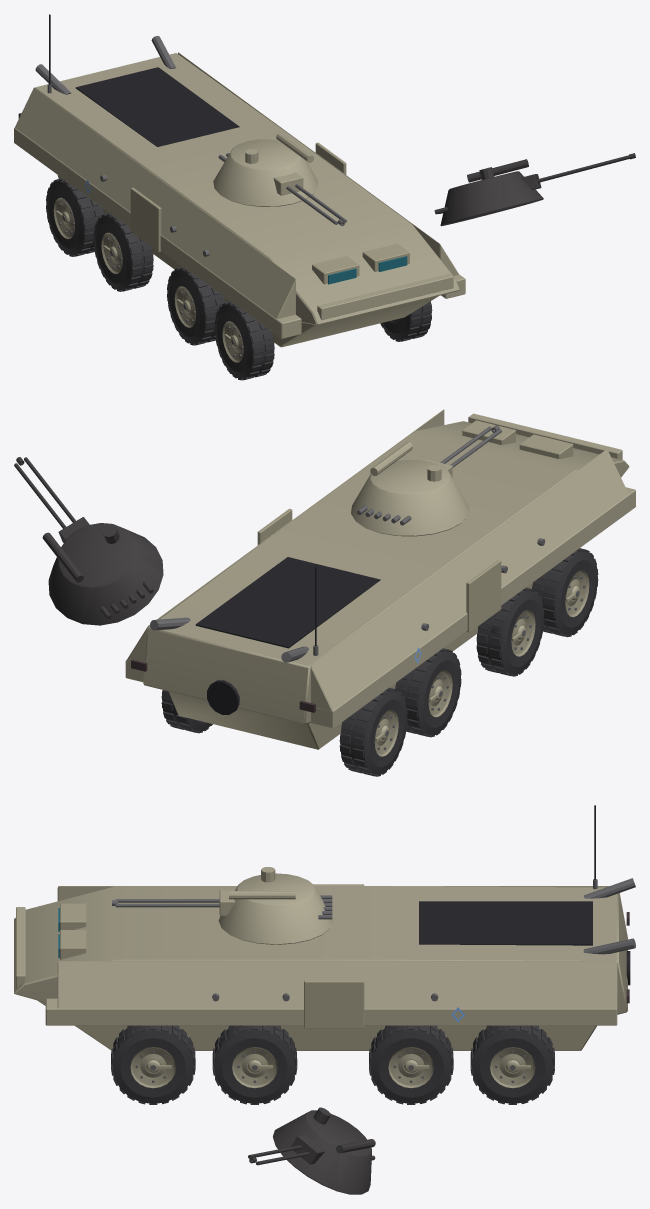
File: apc__m_2010.glb
3 views of the same model, one above another, from view 1: azimuth 30°, elevation 25°; view 2: azimuth 150°, elevation 25°; view 3: azimuth 270°, elevation 25° (orthographic). The views are drawn at different scales.
Parts seen in each view (by area): view 1: Hull_Mesh, Turret_Mesh, Wreck, Wheel_L3_Mesh, Wheel_L1_Mesh, Wheel_L2_Mesh, Wheel_L0_Mesh, Wheel_R3_Mesh, Gun_Mesh; view 2: Hull_Mesh, Wreck, Turret_Mesh, Wheel_L0_Mesh, Wheel_L2_Mesh, Wheel_L1_Mesh, Wheel_L3_Mesh, Wheel_R0_Mesh, Gun_Mesh; view 3: Hull_Mesh, Turret_Mesh, Wreck, Wheel_R3_Mesh, Wheel_R1_Mesh, Wheel_R2_Mesh, Wheel_R0_Mesh, Gun_Mesh.
Boxes of the visible parts, x1=… form: Hull_Mesh: x1=14, y1=14, x2=465, y2=347; Turret_Mesh: x1=213, y1=133, x2=318, y2=206; Wreck: x1=51, y1=153, x2=635, y2=379; Wheel_L3_Mesh: x1=214, y1=301, x2=274, y2=380; Wheel_L1_Mesh: x1=93, y1=213, x2=153, y2=291; Wheel_L2_Mesh: x1=167, y1=267, x2=225, y2=345; Wheel_L0_Mesh: x1=46, y1=178, x2=104, y2=256; Wheel_R3_Mesh: x1=380, y1=301, x2=432, y2=341; Gun_Mesh: x1=273, y1=172, x2=346, y2=226; Hull_Mesh: x1=125, y1=409, x2=635, y2=749; Wreck: x1=14, y1=457, x2=580, y2=776; Turret_Mesh: x1=351, y1=442, x2=469, y2=536; Wheel_L0_Mesh: x1=339, y1=687, x2=407, y2=776; Wheel_L2_Mesh: x1=476, y1=587, x2=544, y2=676; Wheel_L1_Mesh: x1=395, y1=648, x2=461, y2=737; Wheel_L3_Mesh: x1=532, y1=548, x2=598, y2=637; Wheel_R0_Mesh: x1=161, y1=690, x2=212, y2=733; Gun_Mesh: x1=426, y1=425, x2=501, y2=477; Hull_Mesh: x1=14, y1=805, x2=635, y2=1050; Turret_Mesh: x1=218, y1=867, x2=333, y2=944; Wreck: x1=162, y1=1047, x2=527, y2=1194; Wheel_R3_Mesh: x1=111, y1=1025, x2=195, y2=1104; Wheel_R1_Mesh: x1=369, y1=1025, x2=453, y2=1104; Wheel_R2_Mesh: x1=212, y1=1025, x2=297, y2=1104; Wheel_R0_Mesh: x1=470, y1=1025, x2=554, y2=1104; Gun_Mesh: x1=112, y1=890, x2=235, y2=915.
Size of what is drawn, in the model's own units: 7.14 by 3.09 by 7.96.
